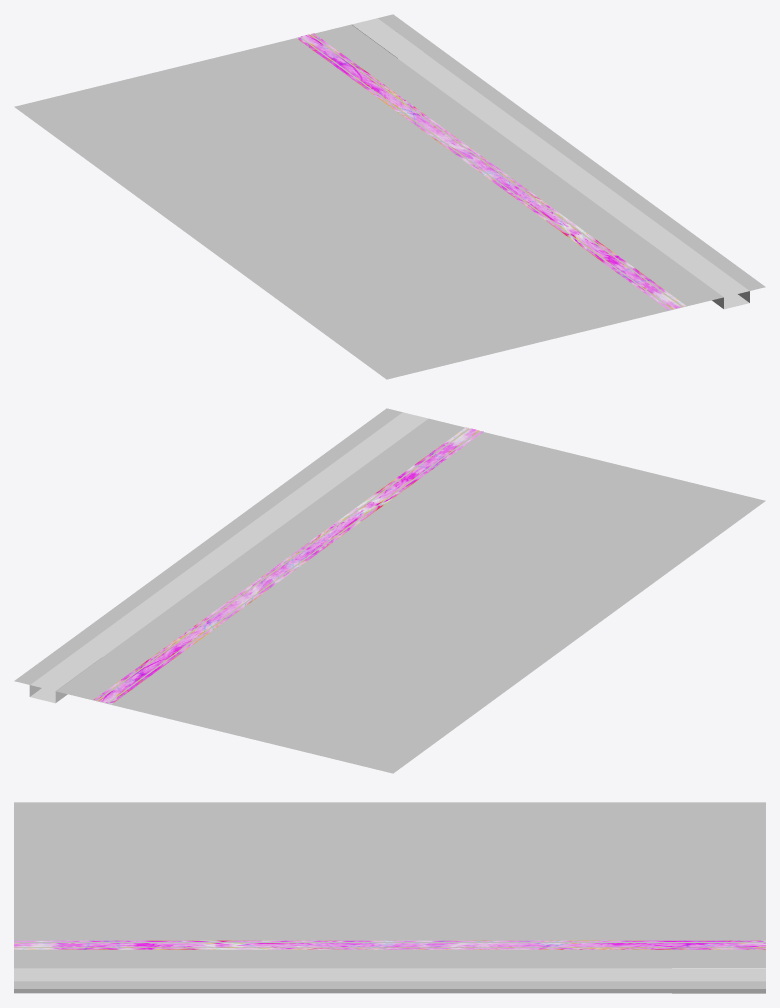
File: floor_02a.fbx
The picture shows the model from 3 angles, top to bottom: view 1: azimuth 30°, elevation 25°; view 2: azimuth 150°, elevation 25°; view 3: azimuth 270°, elevation 25°; orthographic projection.
Parts seen in each view (by area): view 1: Plane.189, Plane.188, Plane.187; view 2: Plane.189, Plane.188, Plane.187; view 3: Plane.189, Plane.188, Plane.187.
Part boxes in pixels (x1,y1,x2,y2): Plane.189: (14, 14, 765, 379); Plane.188: (351, 18, 749, 309); Plane.187: (296, 33, 685, 310); Plane.189: (14, 408, 765, 773); Plane.188: (29, 412, 428, 703); Plane.187: (94, 427, 483, 704); Plane.189: (14, 802, 765, 988); Plane.188: (14, 968, 765, 993); Plane.187: (14, 940, 765, 949).
Size of the model in its own units: 2.35 by 0.0745 by 4.
